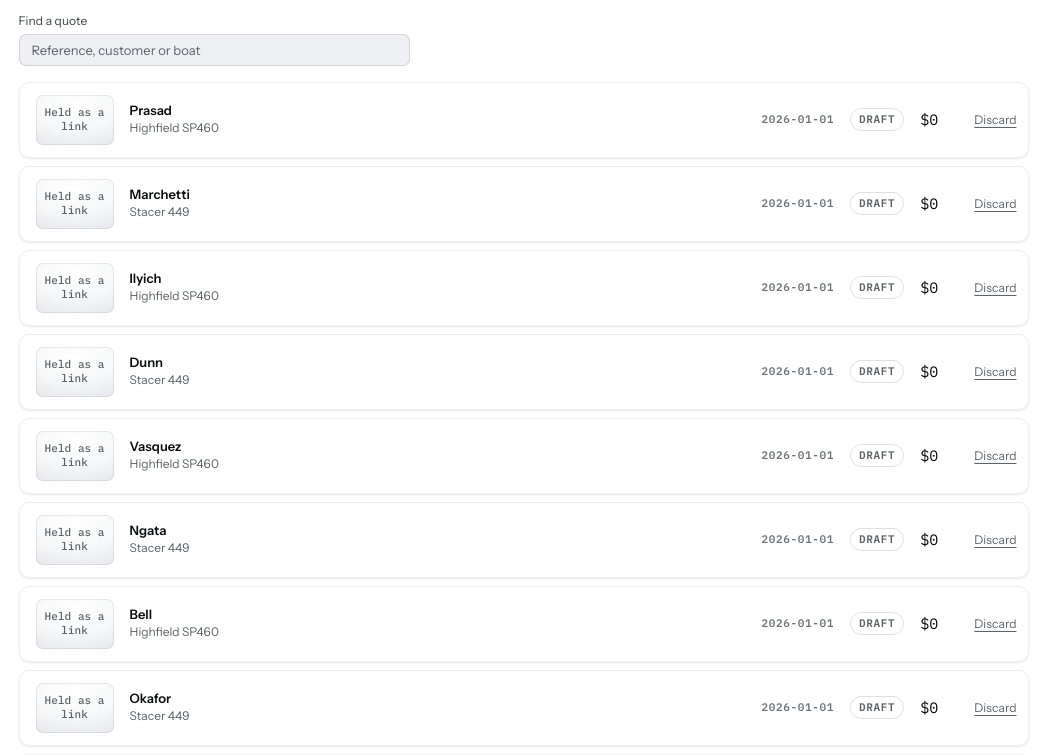
narrowing it › KEEPS ONLY WHAT MATCHES, and says which of the two counts is on screen
The width and height of the screenshot is (1046, 755).
In the search field labelled "Find a quote": x=214, y=50 x1=18 y1=34 x2=410 y2=66, type "okafor"
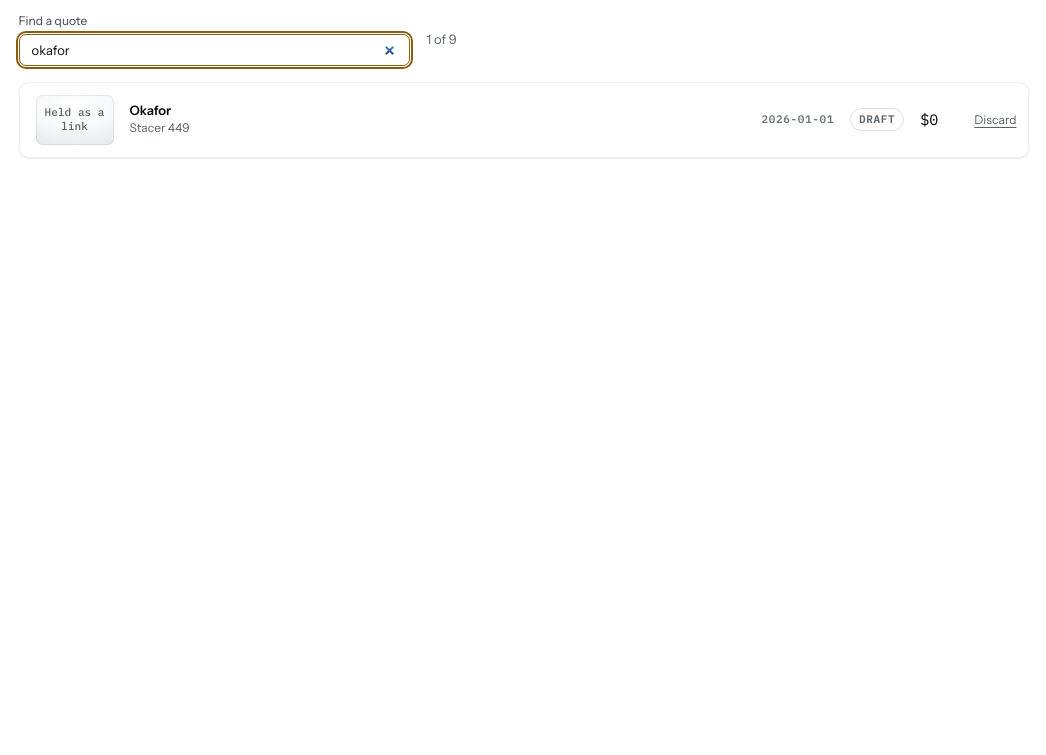
Expected: the number of list items is 1, x1=18 y1=82 x2=1029 y2=158
